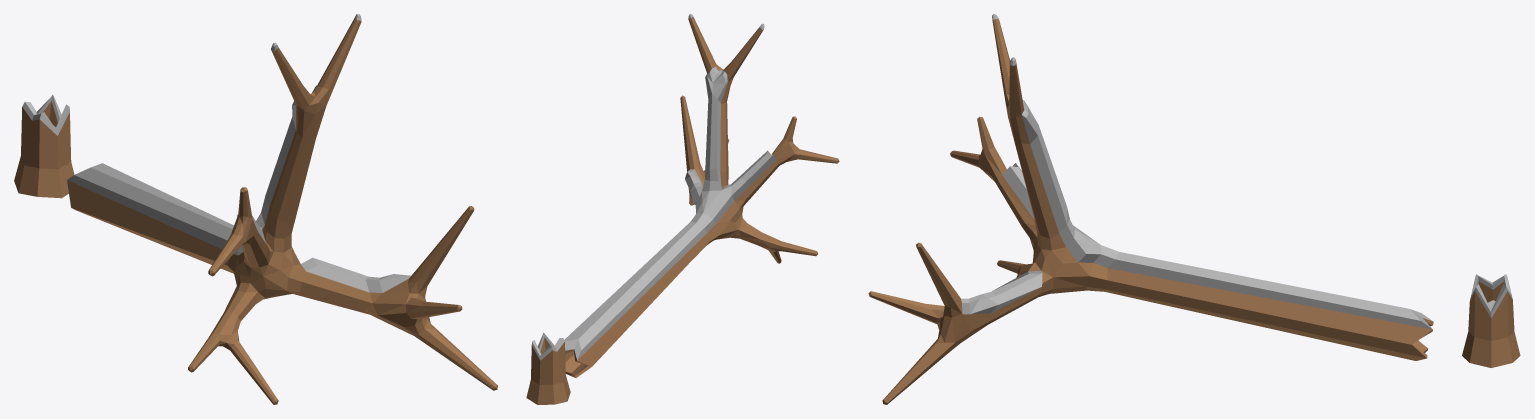
The model's file is Tree_7 Broken Winter.fbx.
3 renders of one model, left to right at view 1: azimuth 30°, elevation 25°; view 2: azimuth 150°, elevation 25°; view 3: azimuth 270°, elevation 25°, orthographic. The views are drawn at different scales.
Visible parts, largest first — view 1: Tree7BrokenWinter_mesh; view 2: Tree7BrokenWinter_mesh; view 3: Tree7BrokenWinter_mesh.
Part boxes in pixels (x1,y1,x2,y2): Tree7BrokenWinter_mesh: (14,14,497,404); Tree7BrokenWinter_mesh: (526,14,839,404); Tree7BrokenWinter_mesh: (868,14,1520,404).
Bounding box in the file's own units: 236 × 315 × 573.
